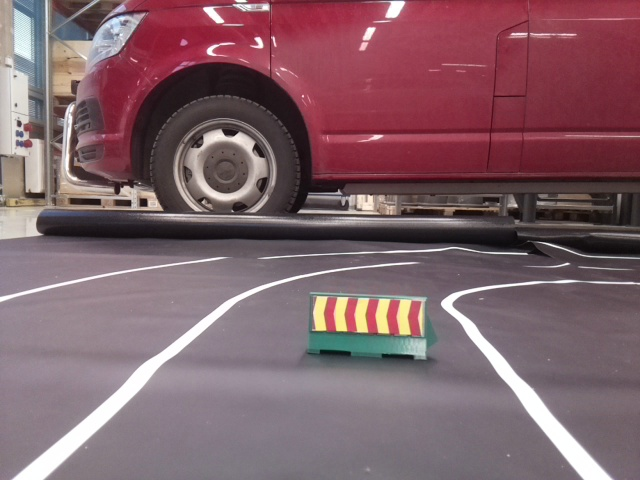ClosedRoadStand: (310, 293, 426, 361)
